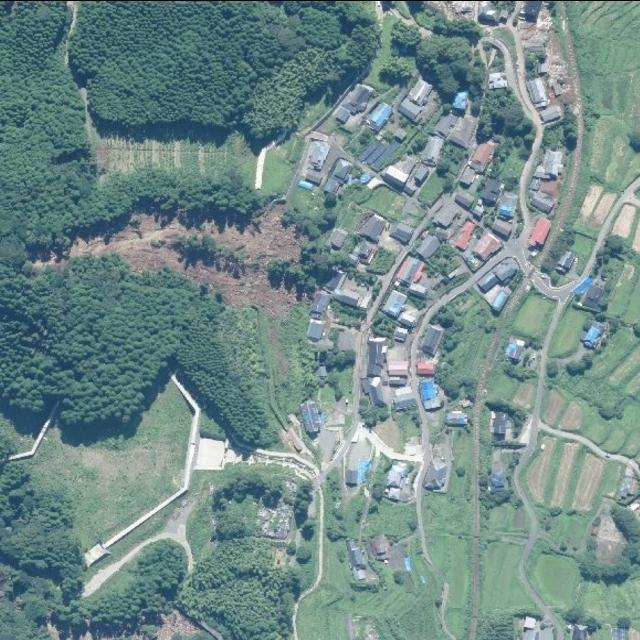landslide: (66, 204, 302, 316)
